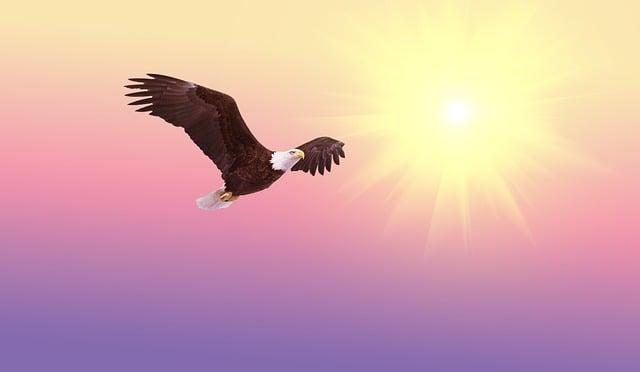bird: (125, 74, 344, 208)
